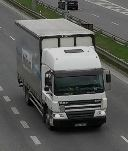truck: (12, 19, 114, 131)
